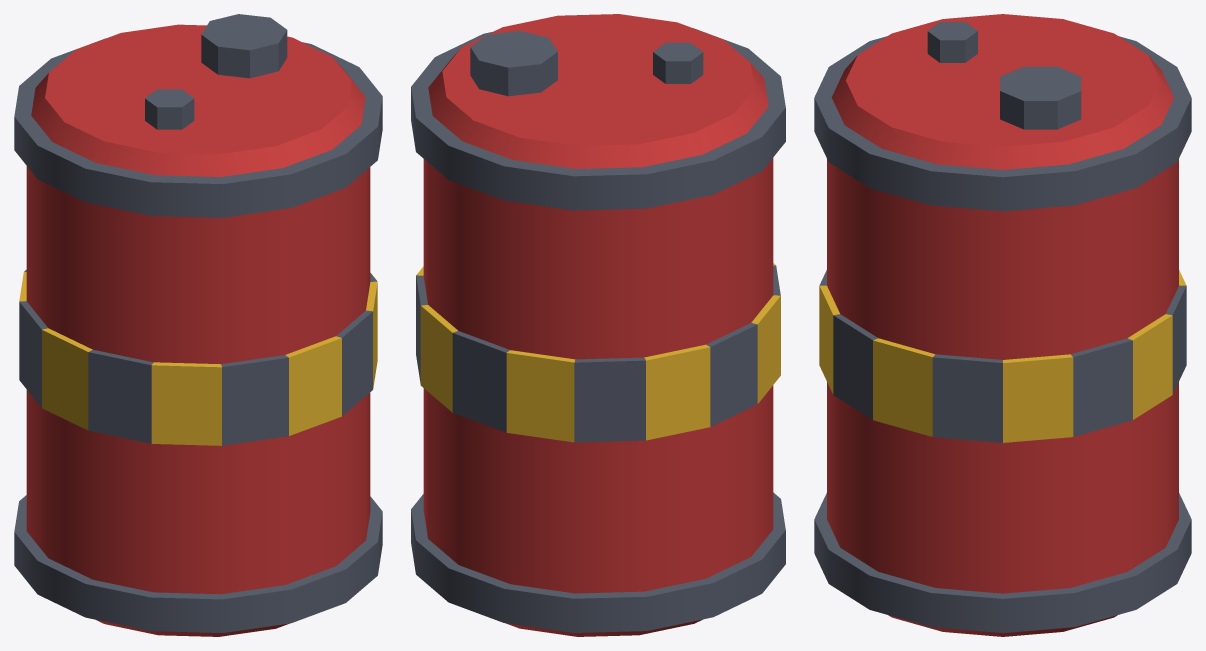
The model's file is FuelCanister_CC0.glb.
3 views of the same model, side by side, from view 1: azimuth 30°, elevation 25°; view 2: azimuth 150°, elevation 25°; view 3: azimuth 270°, elevation 25° (orthographic).
Visible parts, largest first — view 1: Canister body, Canister rims, Canister band, Canister caps; view 2: Canister body, Canister rims, Canister band, Canister caps; view 3: Canister body, Canister rims, Canister band, Canister caps.
Part boxes in pixels (bbox=[...]): Canister body: bbox=[26, 24, 370, 636]; Canister rims: bbox=[14, 38, 382, 632]; Canister band: bbox=[19, 269, 377, 445]; Canister caps: bbox=[145, 14, 287, 129]; Canister body: bbox=[423, 14, 773, 636]; Canister rims: bbox=[411, 28, 785, 632]; Canister band: bbox=[416, 263, 780, 442]; Canister caps: bbox=[470, 31, 703, 96]; Canister body: bbox=[827, 14, 1178, 636]; Canister rims: bbox=[814, 36, 1191, 632]; Canister band: bbox=[819, 270, 1186, 442]; Canister caps: bbox=[927, 22, 1081, 129].
Size of the model in its own units: 0.6 by 0.91 by 0.6.
